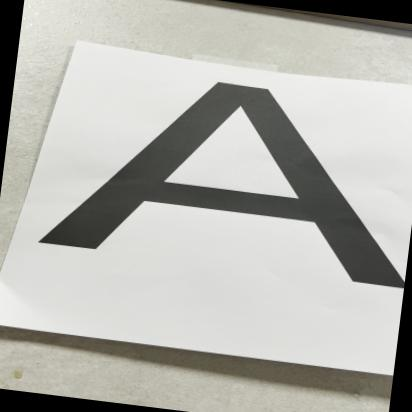seat: (36, 63, 412, 309)
